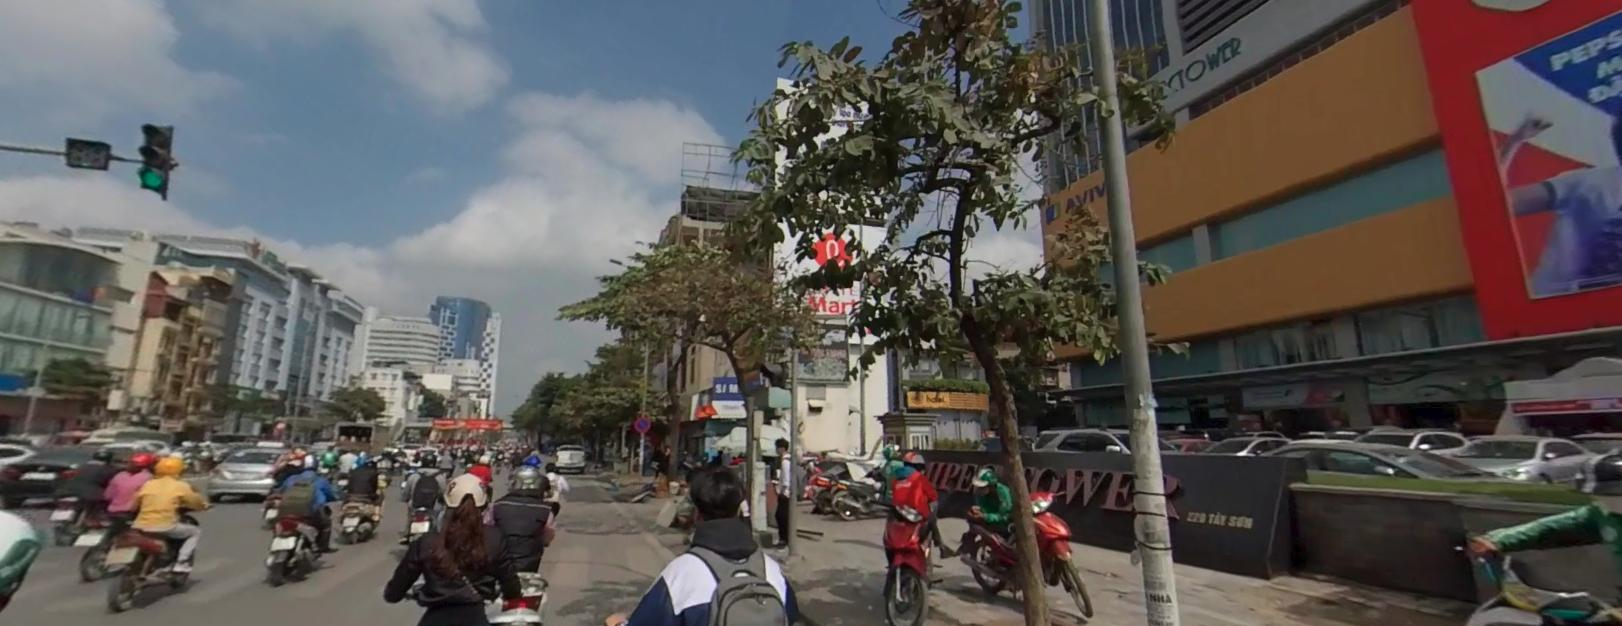Cam dung va do: (631, 413, 651, 433)
